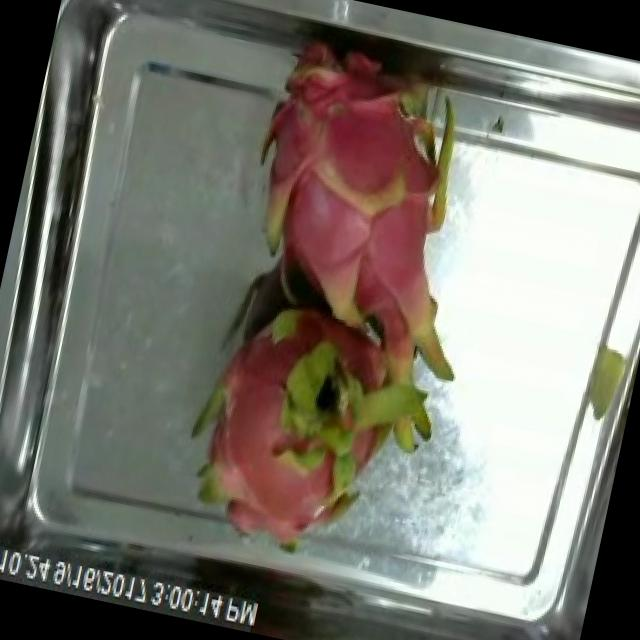Fruit: (245, 564, 379, 640)
